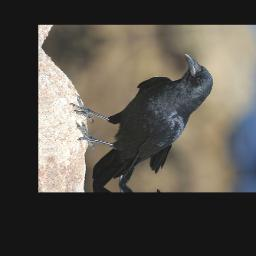Crow: (64, 49, 223, 189)
